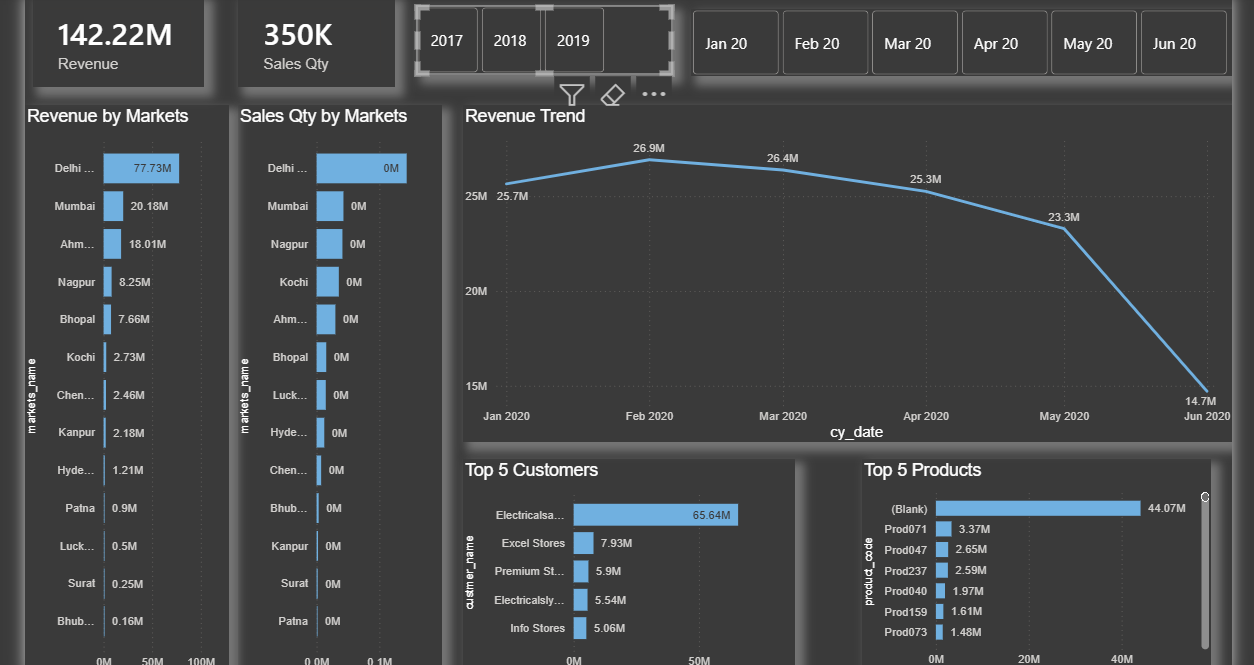

The page's visual inventory and layout, read from the dashboard file:
{"tool":"powerbi","page":{"name":"Page 1","canvas":[1280,720],"ordinal":0},"visuals":[{"type":"cardVisual","fields":{"Data":["BaseMeasures.Revenue"]},"box":[8,0,182,98],"z":0},{"type":"cardVisual","fields":{"Data":["BaseMeasures.Sales Qty"]},"box":[226,0,166,98],"z":1000},{"type":"barChart","title":"Revenue by Markets","fields":{"Y":["BaseMeasures.Revenue"],"Category":["sales markets.markets_name"]},"box":[0,116,216,604],"z":2000},{"type":"barChart","title":"Sales Qty by Markets","fields":{"Y":["BaseMeasures.Sales Qty"],"Category":["sales markets.markets_name"]},"box":[226,116,216,604],"z":3000},{"type":"advancedSlicerVisual","fields":{"Values":["sales date.year"]},"box":[415,11.7,271.7,73.3],"z":4000},{"type":"advancedSlicerVisual","fields":{"Values":["sales date.cy_date"]},"box":[706,14,574,72],"z":5000},{"type":"barChart","title":"Top 5 Customers","fields":{"Y":["BaseMeasures.Revenue"],"Category":["sales customers.custmer_name"]},"box":[464,492,352,228],"z":6000},{"type":"barChart","title":"Top 5 Products","fields":{"Category":["sales products.product_code"],"Y":["BaseMeasures.Revenue"]},"box":[888,492,370,226],"z":7000},{"type":"lineChart","title":"Revenue Trend","fields":{"Y":["BaseMeasures.Revenue"],"Category":["sales date.cy_date"]},"box":[464,116,816,358],"z":8000}]}

Visuals, with their boxes in screenshot pixels (x1, y1, x2, y2):
cardVisual - BaseMeasures.Revenue: region(30, 0, 203, 89)
cardVisual - BaseMeasures.Sales Qty: region(237, 0, 394, 89)
"Revenue by Markets" barChart: region(23, 106, 227, 664)
"Sales Qty by Markets" barChart: region(237, 106, 441, 664)
advancedSlicerVisual - sales date.year: region(415, 8, 672, 77)
advancedSlicerVisual - sales date.cy_date: region(691, 10, 1234, 78)
"Top 5 Customers" barChart: region(462, 462, 795, 664)
"Top 5 Products" barChart: region(863, 462, 1213, 664)
"Revenue Trend" lineChart: region(462, 106, 1234, 445)
